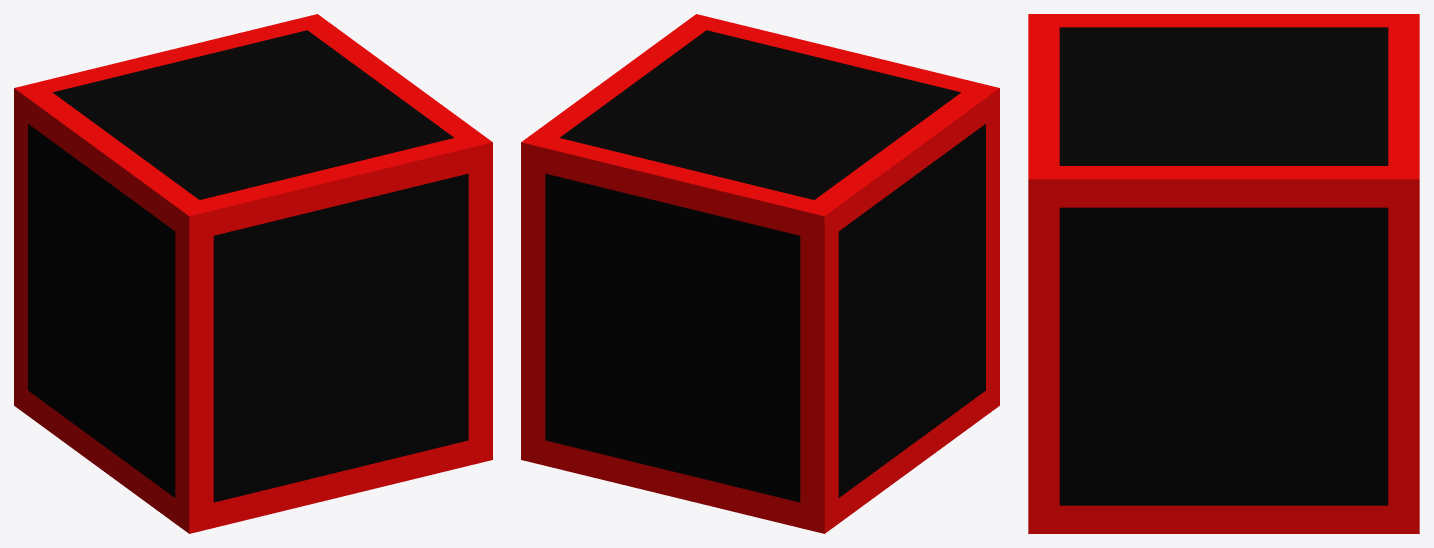
File: 네몬스.FBX
3 renders of one model, left to right at view 1: azimuth 30°, elevation 25°; view 2: azimuth 150°, elevation 25°; view 3: azimuth 270°, elevation 25°, orthographic. The views are drawn at different scales.
Visible parts, largest first — view 1: Box001; view 2: Box001; view 3: Box001.
Boxes of the visible parts, <box> form: Box001: <box>14,14,492,533</box>; Box001: <box>521,14,999,533</box>; Box001: <box>1028,14,1419,533</box>.
Size of the model in its own units: 40 by 40 by 40.
